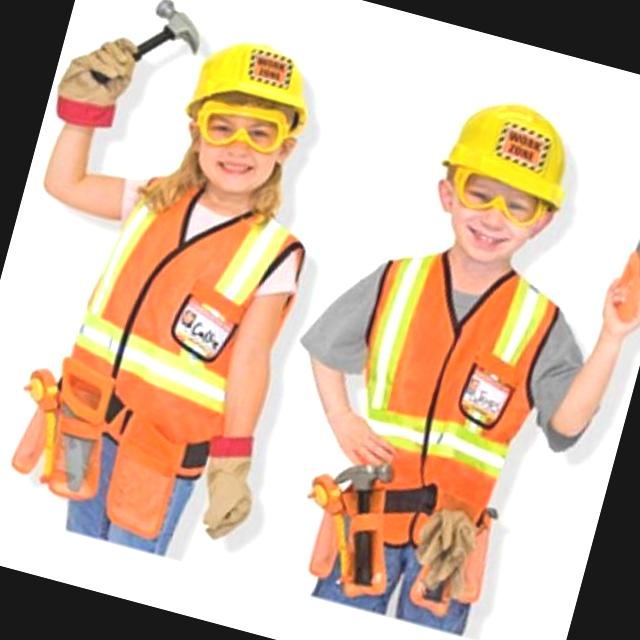vest: (44, 164, 318, 491), (316, 238, 568, 571)
